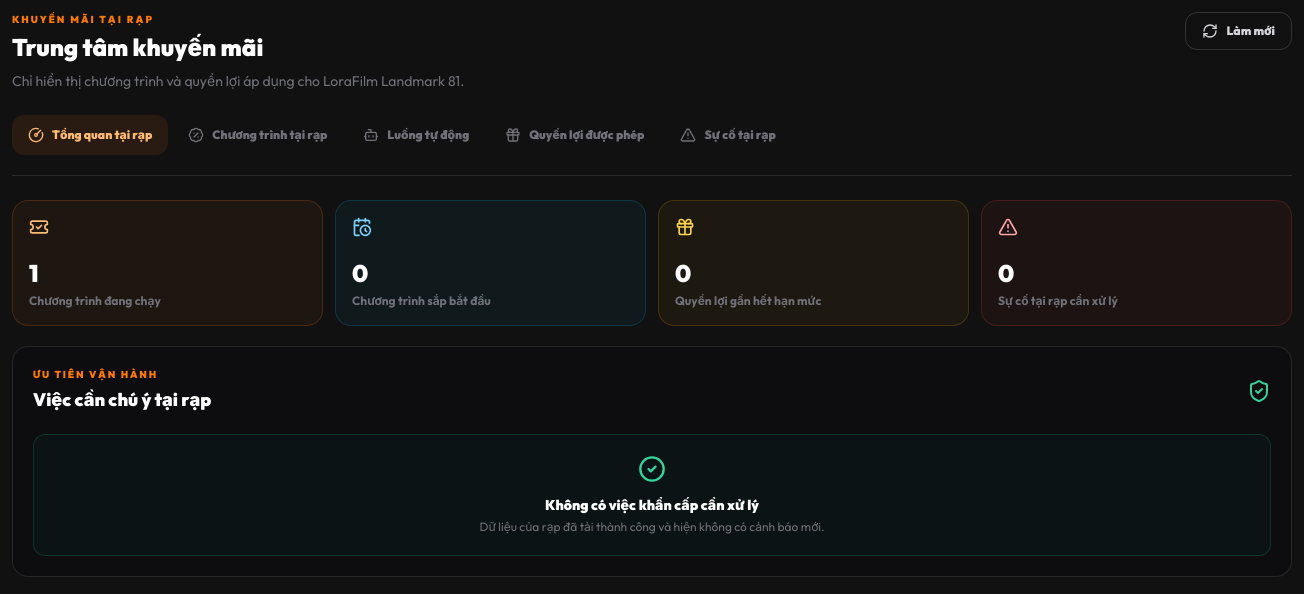
Test: ManagerPromotionCenterPage › shows an empty incident state only after the scoped request succeeds
Expected: the text "Không có việc khẩn cấp cần xử lý" is shown, left=545, top=496, right=759, bottom=514
Click the button "Sự cố tại rạp": (728, 135) left=664, top=115, right=792, bottom=155
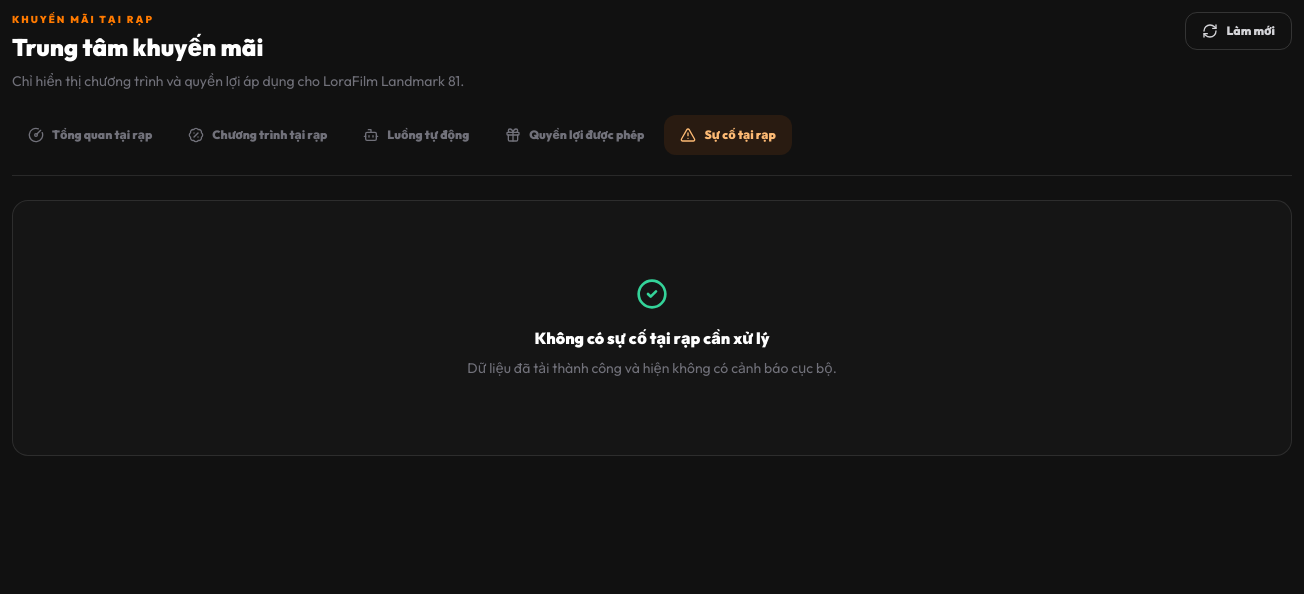
Expected: the heading "Không có sự cố tại rạp cần xử lý" is shown, left=534, top=326, right=770, bottom=350
